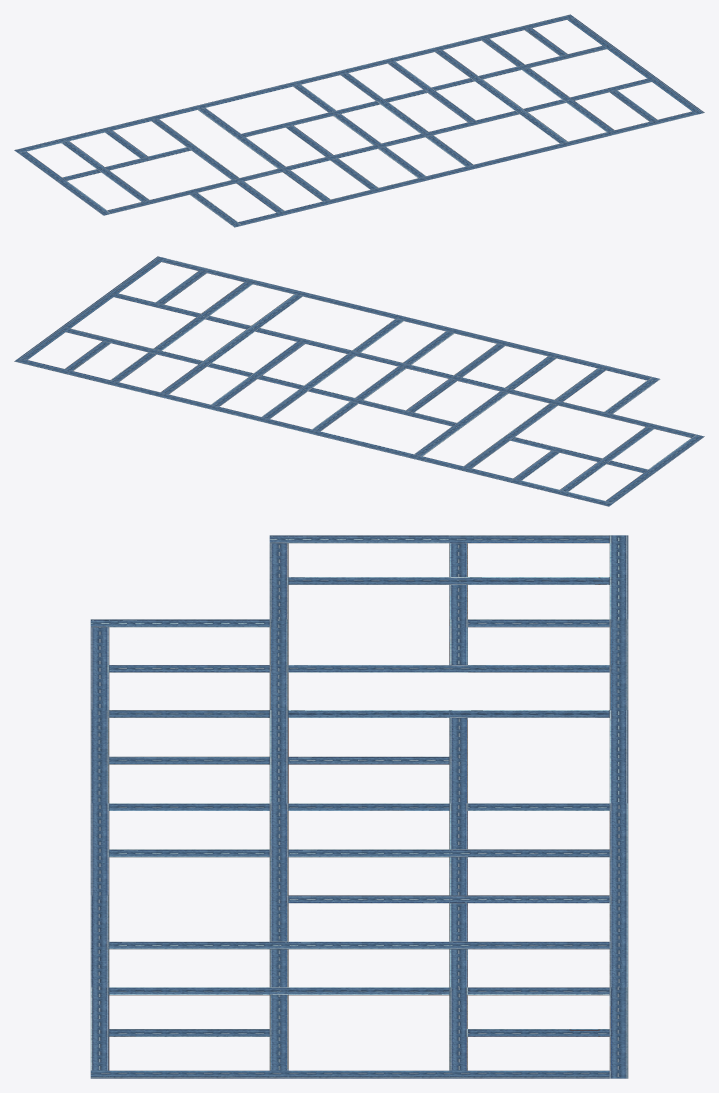
Rendered from roads.glb.
3 renders of one model, top to bottom at view 1: azimuth 30°, elevation 25°; view 2: azimuth 150°, elevation 25°; view 3: azimuth 270°, elevation 25°, orthographic. The views are drawn at different scales.
Parts seen in each view (by area): view 1: Roads-Roads; view 2: Roads-Roads; view 3: Roads-Roads.
Part boxes in pixels (x1,y1,x2,y2): Roads-Roads: [14, 14, 704, 227]; Roads-Roads: [14, 256, 704, 506]; Roads-Roads: [90, 535, 628, 1078].
Size of the model in its own units: 10.93 by 0 by 4.58.
1 material, 1 textured.
